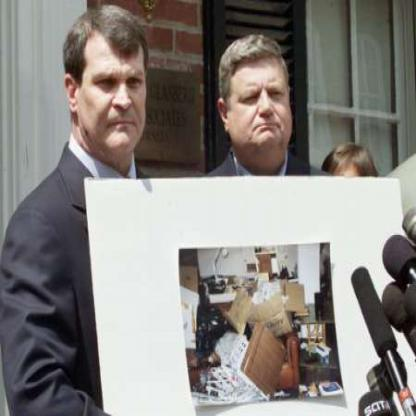face: (77, 13, 154, 160), (226, 36, 296, 162)
